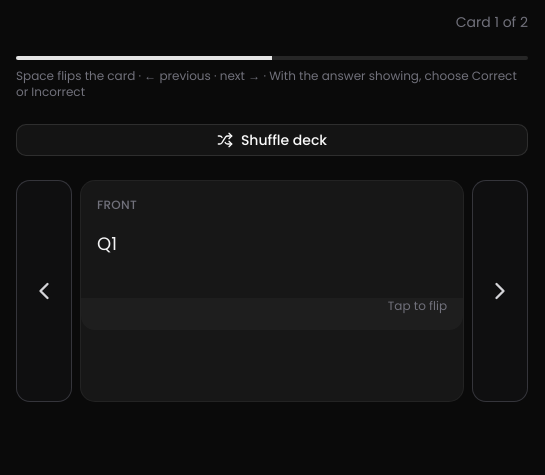
Test case: StudySession › advances after grading when not on the last card
The width and height of the screenshot is (545, 475).
Click the text "Q1". click: (107, 244)
box: [97,231,117,256]
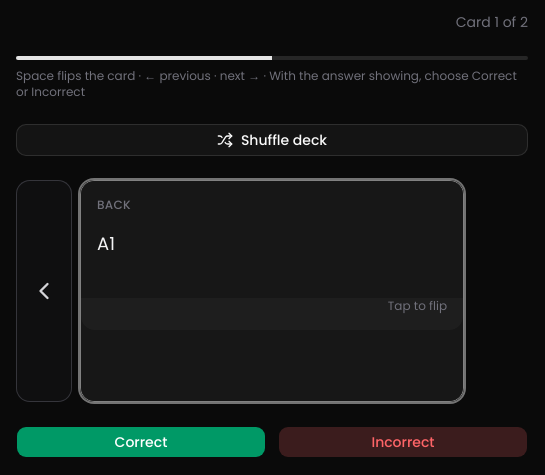
Click the button "Correct". click: (141, 442)
box: [16,426,266,458]
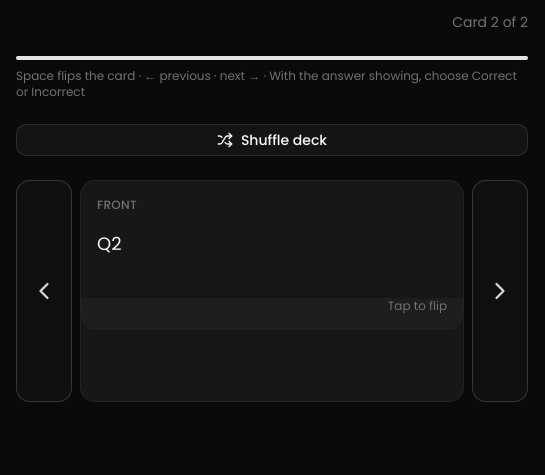
Expected: the text "Card 2 of 2" is shown, [452,12,528,32]
Expected: the text "Q2" is shown, [97,231,122,256]
